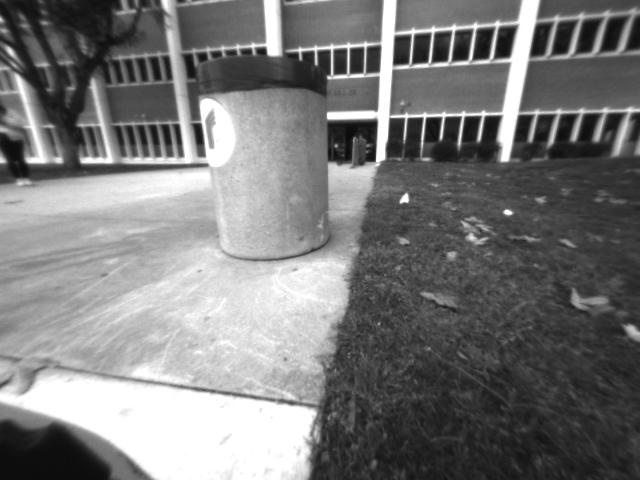trashcan: (183, 50, 350, 267)
